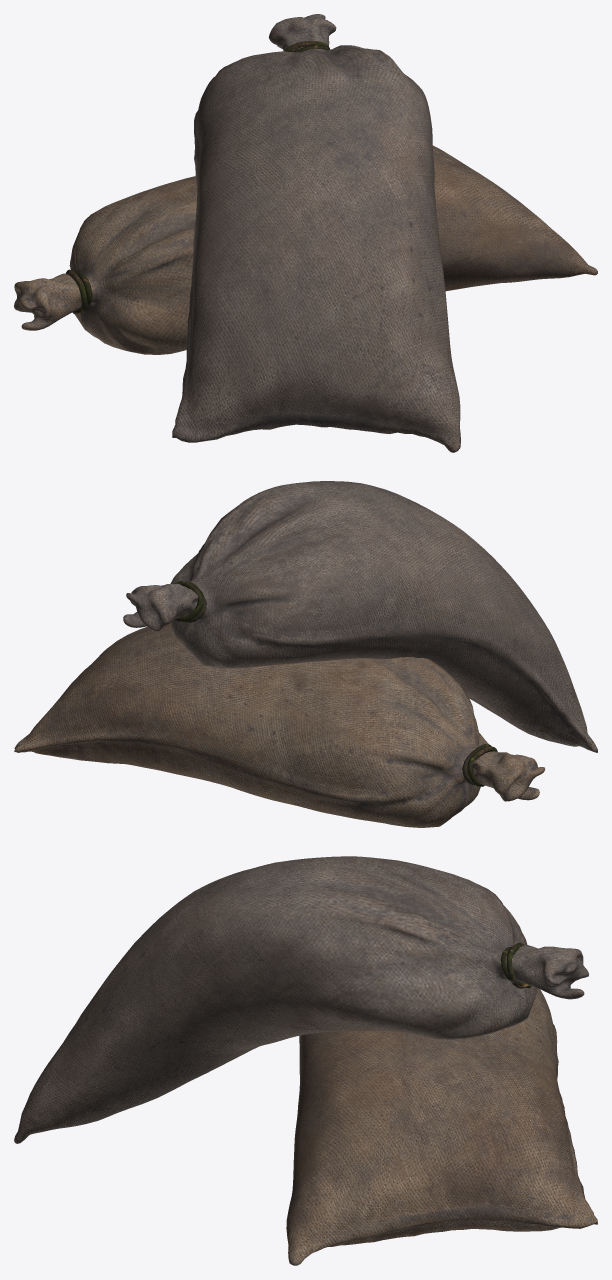
The model's file is SM_Bag_03.fbx.
3 renders of one model, top to bottom at view 1: azimuth 30°, elevation 25°; view 2: azimuth 150°, elevation 25°; view 3: azimuth 270°, elevation 25°, orthographic. The views are drawn at different scales.
Visible parts, largest first — view 1: SM_Bag_03_LOD0; view 2: SM_Bag_03_LOD0; view 3: SM_Bag_03_LOD0.
Part boxes in pixels (<box>): SM_Bag_03_LOD0: <box>14,14,597,452</box>; SM_Bag_03_LOD0: <box>14,481,597,827</box>; SM_Bag_03_LOD0: <box>14,856,597,1265</box>.
Bounding box in the file's own units: 163 × 147 × 79.4.
2 materials, 2 textured.
